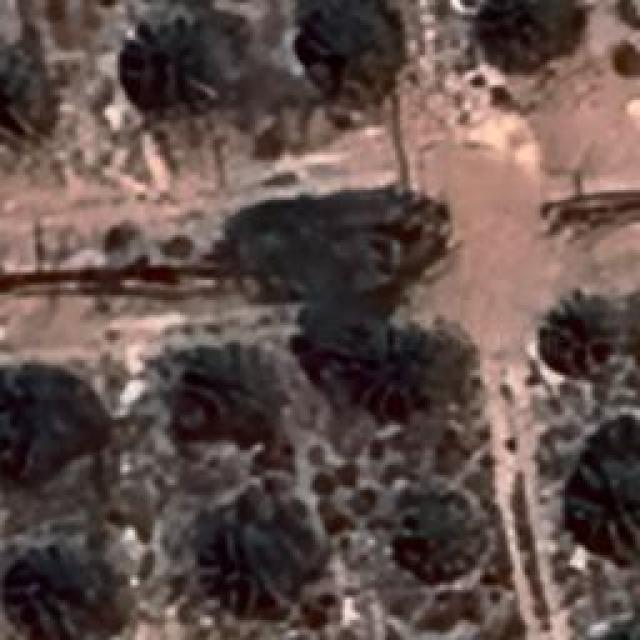PalmTree: (45, 100, 251, 550), (297, 0, 405, 95), (3, 550, 112, 640), (0, 370, 82, 477), (180, 352, 265, 446), (402, 488, 486, 572), (132, 26, 226, 99), (568, 457, 638, 555), (358, 325, 442, 403), (220, 222, 304, 299), (478, 0, 572, 65), (546, 295, 619, 375)
